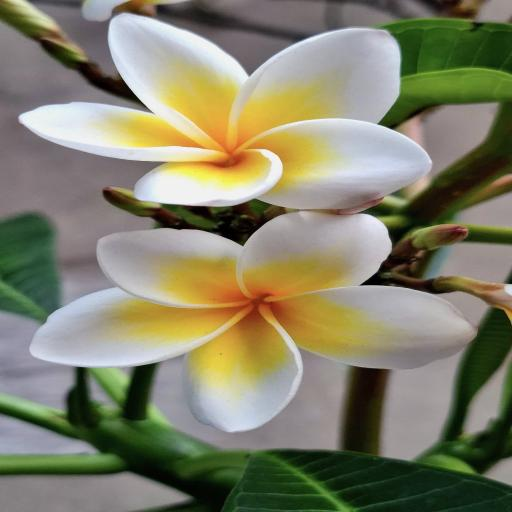Frangipani: (18, 209, 477, 438), (17, 9, 434, 211)
